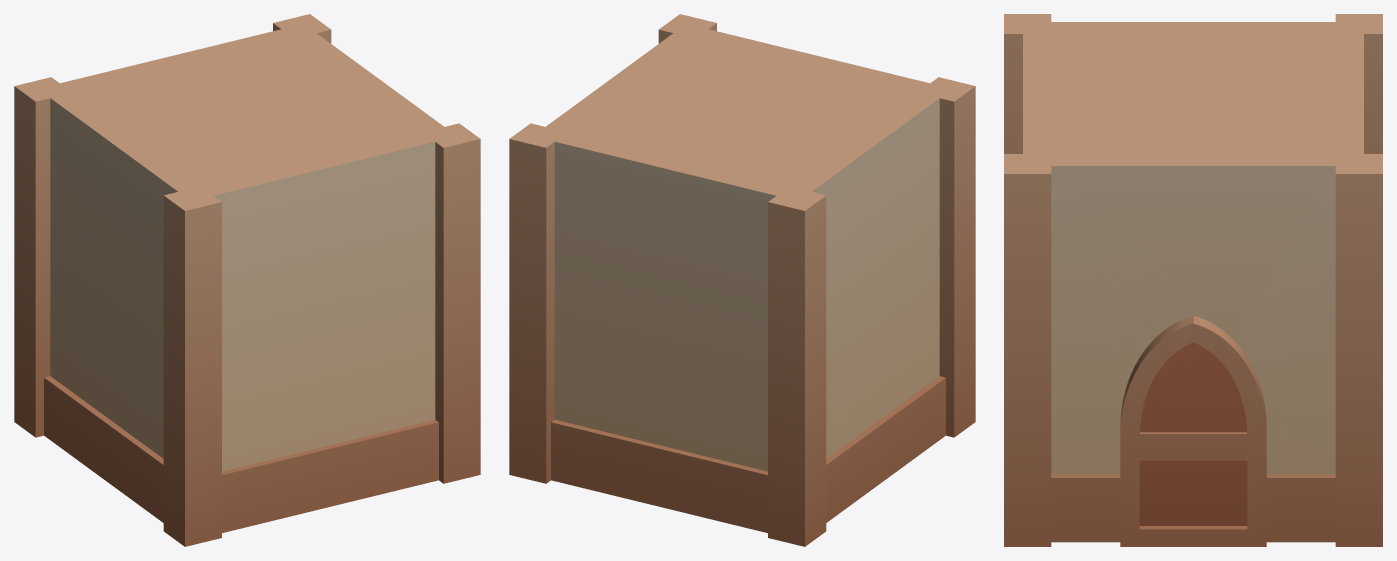
File: tower-square-mid-door.glb
3 renders of one model, left to right at view 1: azimuth 30°, elevation 25°; view 2: azimuth 150°, elevation 25°; view 3: azimuth 270°, elevation 25°, orthographic. The views are drawn at different scales.
Parts seen in each view (by area): view 1: tower-square-mid-door; view 2: tower-square-mid-door; view 3: tower-square-mid-door.
Part boxes in pixels (left/top/right/bottom): tower-square-mid-door: left=14, top=14, right=480, bottom=546; tower-square-mid-door: left=509, top=14, right=975, bottom=546; tower-square-mid-door: left=1004, top=14, right=1382, bottom=546.
Bounding box in the file's own units: 0.93 × 1.01 × 0.93.
